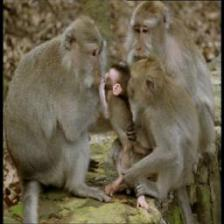monkey: (71, 33, 104, 102), (125, 14, 159, 63), (100, 66, 128, 100), (127, 66, 144, 106)
